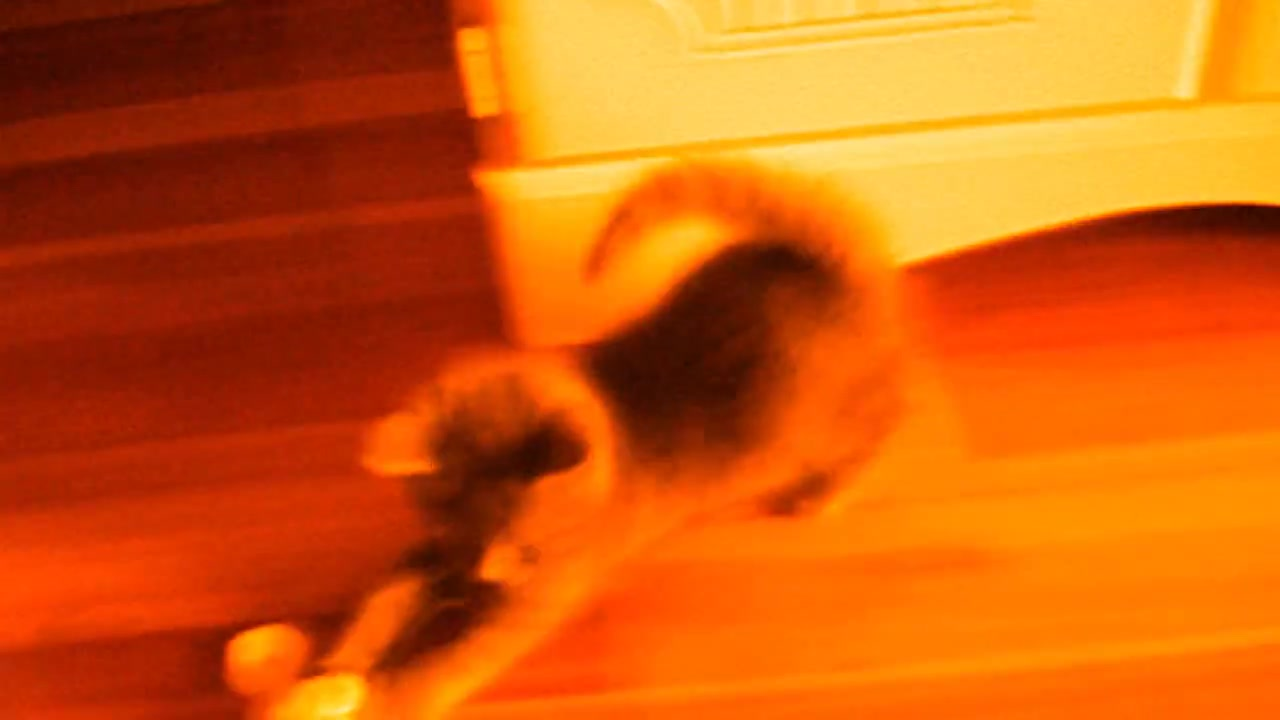cat: (314, 164, 922, 720)
